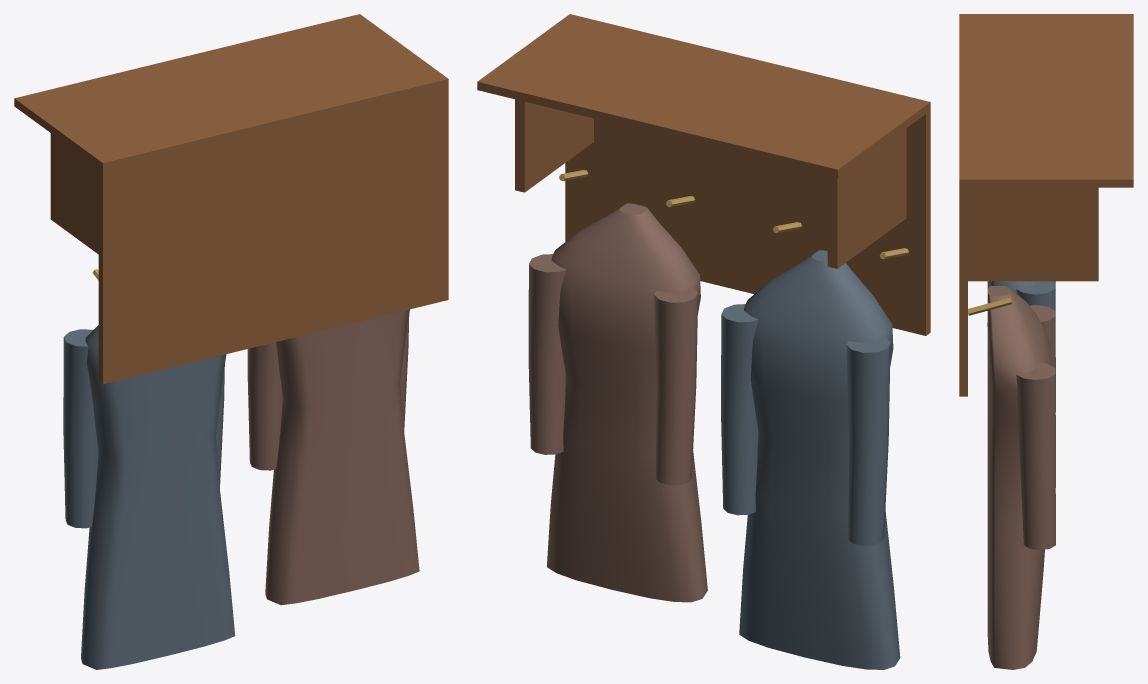
Rendered from parametric-wall-coat-rack-2nd-0900x0400x1900.glb.
The picture shows the model from 3 angles, left to right: view 1: azimuth 30°, elevation 25°; view 2: azimuth 150°, elevation 25°; view 3: azimuth 270°, elevation 25°; orthographic projection. The views are drawn at different scales.
Parts seen in each view (by area): view 1: backboard, coat:0, coat:1, hat-shelf, coat-sleeve:0:-1, bracket:-1, coat-sleeve:1:-1; view 2: coat:0, coat:1, hat-shelf, backboard, coat-sleeve:0:-1, coat-sleeve:1:-1, bracket:-1, coat-sleeve:0:1, coat-sleeve:1:1, bracket:1; view 3: hat-shelf, coat:1, bracket:1, coat-sleeve:1:1, backboard, coat-sleeve:0:1, coat-sleeve:1:-1, hook:3, coat:0.
Part boxes in pixels (x1,y1,x2,y2): backboard: (98, 87, 448, 384); coat:0: (81, 325, 235, 669); coat:1: (265, 309, 419, 605); hat-shelf: (14, 14, 448, 171); coat-sleeve:0:-1: (63, 329, 98, 528); bracket:-1: (50, 133, 98, 254); coat-sleeve:1:-1: (247, 342, 282, 470); coat:0: (739, 250, 900, 669); coat:1: (547, 203, 707, 602); hat-shelf: (477, 14, 930, 177); backboard: (565, 110, 930, 335); coat-sleeve:0:-1: (846, 338, 890, 545); coat-sleeve:1:-1: (654, 288, 698, 485); bracket:-1: (827, 128, 906, 268); coat-sleeve:0:1: (721, 304, 758, 515); coat-sleeve:1:1: (528, 254, 566, 454); bracket:1: (515, 99, 593, 192); hat-shelf: (959, 14, 1133, 187); coat:1: (987, 285, 1052, 669); bracket:1: (968, 187, 1098, 281); coat-sleeve:1:1: (1016, 363, 1055, 550); backboard: (959, 187, 967, 396); coat-sleeve:0:1: (1016, 281, 1055, 435); coat-sleeve:1:-1: (1030, 305, 1055, 487); hook:3: (968, 297, 1012, 315); coat:0: (987, 281, 1037, 293).
Bounding box in the file's own units: 0.9 × 1.3 × 0.4.
